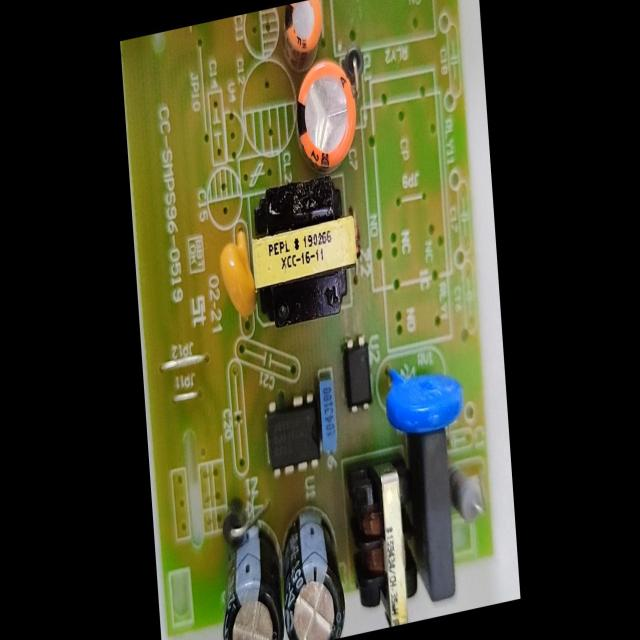Cap1: (288, 51, 362, 180)
Cap2: (276, 0, 328, 61)
Cap3: (276, 496, 350, 640)
Cap4: (209, 508, 289, 640)
MOSFET: (260, 387, 322, 485)
Mov: (377, 350, 468, 447)
Resistor: (446, 453, 488, 538)
Transformer: (243, 165, 364, 338), (340, 456, 424, 635)
